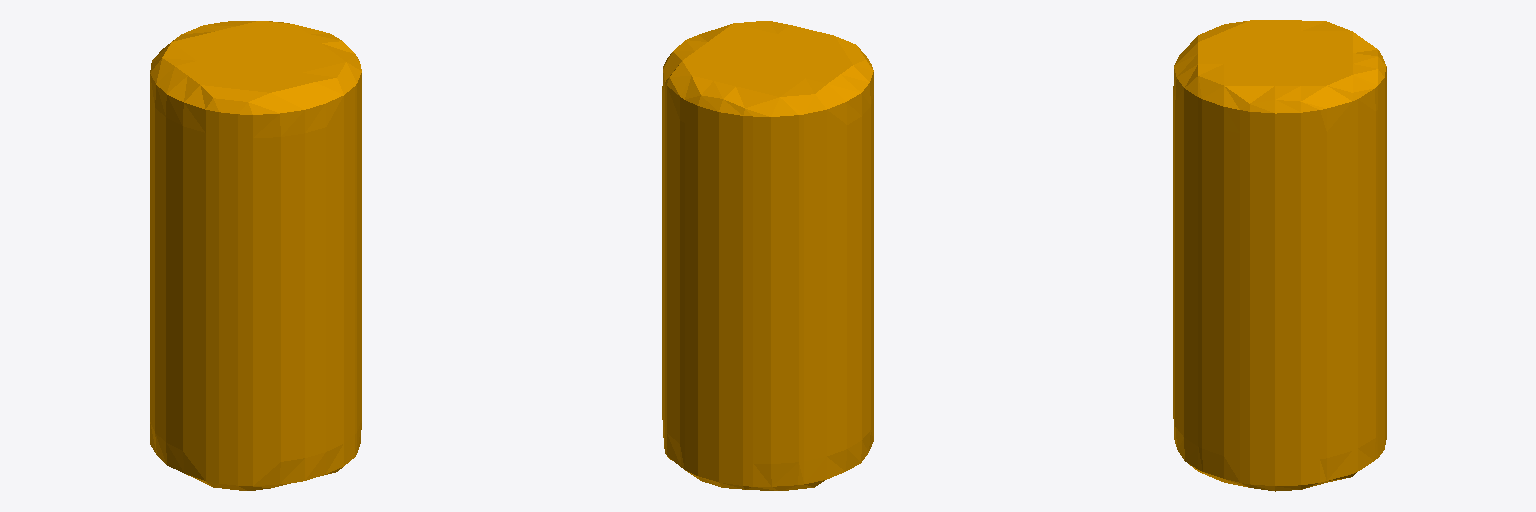
robot.urdf — cylinder_../../meshes/cylinders/cylinder_21.stl:
<?xml version="1.0" encoding="utf-8"?>  <robot name="cylinder_../../meshes/cylinders/cylinder_21.stl">   <link name="cylinder_../../meshes/cylinders/cylinder_21.stl">     <visual>       <geometry>         <mesh filename="../meshes/cylinders/cylinder_21.stl" scale="1 1 1"/>       </geometry>     </visual>     <collision>       <geometry>         <mesh filename="../meshes/cylinders/cylinder_21.stl" scale="1 1 1"/>       </geometry>     </collision>     <inertial>        <origin         xyz="0 0 0"         rpy="0 0 0" />       <mass value="0.11275870231821268"/>       <origin rpy="0 0 0" xyz="0 0 0"/>       <inertia ixx="7.882133808972874e-05" ixy="4.453643657830647e-09" ixz="3.9199896974362916e-09" iyy="7.88213597112549e-05" iyz="-1.7691725887564369e-09" izz="2.3799554844849577e-05"/>     </inertial>   </link>  </robot>

--- Render facts (derived) ---
The picture shows the robot from 3 angles, left to right: view 1: azimuth 30°, elevation 25°; view 2: azimuth 150°, elevation 25°; view 3: azimuth 270°, elevation 25°; orthographic projection.
Robot: cylinder_../../meshes/cylinders/cylinder_21.stl — 1 links, 0 joints (none); root link cylinder_../../meshes/cylinders/cylinder_21.stl; default pose: all joints at 0.
Links seen in each view (by area): view 1: cylinder_../../meshes/cylinders/cylinder_21.stl; view 2: cylinder_../../meshes/cylinders/cylinder_21.stl; view 3: cylinder_../../meshes/cylinders/cylinder_21.stl.
Boxes of the visible links, bbox=[...] form: cylinder_../../meshes/cylinders/cylinder_21.stl: bbox=[150, 21, 361, 490]; cylinder_../../meshes/cylinders/cylinder_21.stl: bbox=[662, 21, 873, 490]; cylinder_../../meshes/cylinders/cylinder_21.stl: bbox=[1173, 20, 1386, 491].
Bounding box of the posed robot: 0.0415 × 0.0415 × 0.0852 m (x, y, z).
Meshes: 1 distinct files referenced, 1 mesh visuals loaded (1 binary STL).